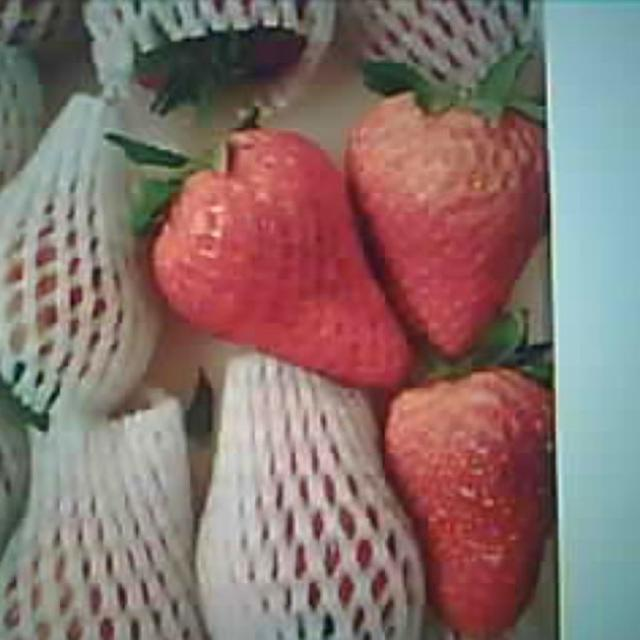Healthy Fruit: (147, 128, 411, 379), (352, 93, 550, 353), (390, 370, 546, 640)
